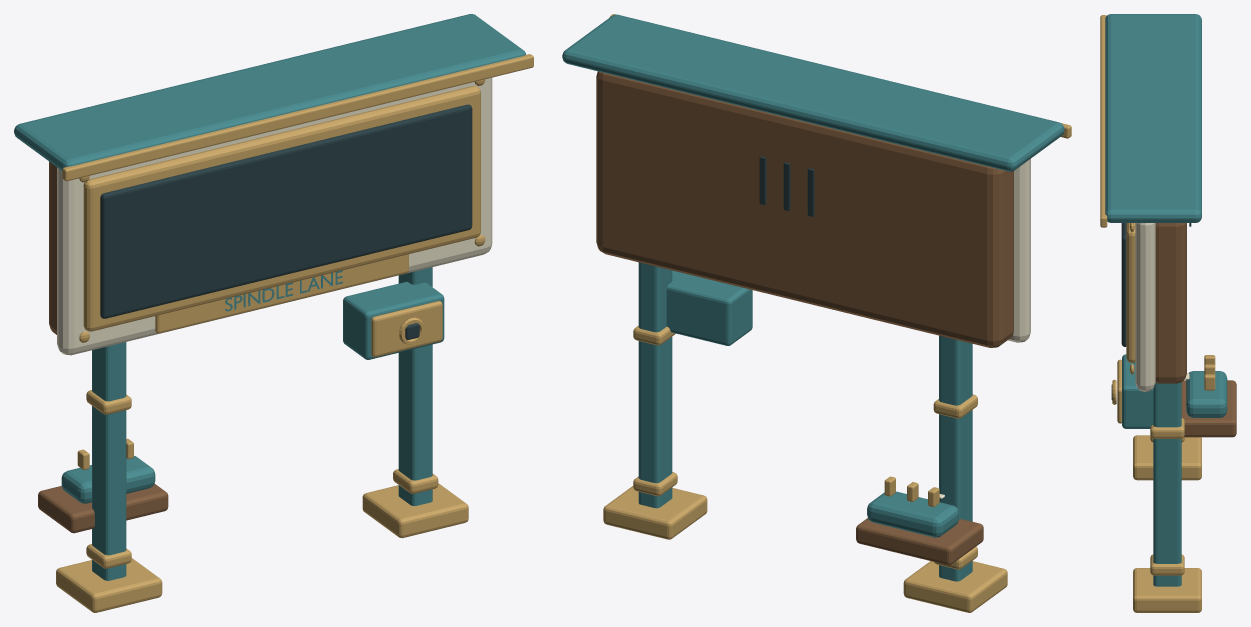
3 renders of one model, left to right at view 1: azimuth 30°, elevation 25°; view 2: azimuth 150°, elevation 25°; view 3: azimuth 270°, elevation 25°, orthographic. The views are drawn at different scales.
Parts seen in each view (by area): view 1: Display glass, Weather hood, Inset brass bezel, Enamel surround, Cast enamel upright, Hood brass lip, Cast enamel upright.001, Stop nameplate, Service enclosure, Brass foot.001, Brass foot, Tool rest (+4 smaller); view 2: Walnut back, Weather hood, Cast enamel upright.001, Cast enamel upright, Service enclosure, Tool rest, Brass foot.001, Brass foot, Enamel surround, Rolled canvas; view 3: Weather hood, Cast enamel upright.001, Walnut back, Enamel surround, Brass foot.001, Brass foot, Rolled canvas, Tool rest, Service enclosure, Inset brass bezel, Hood brass lip, Display glass (+3 smaller).
Boxes of the visible parts, x1,y1,x2,y2 form: Display glass: [100, 104, 472, 318]; Weather hood: [14, 14, 526, 170]; Inset brass bezel: [83, 86, 480, 331]; Enamel surround: [57, 77, 492, 355]; Cast enamel upright: [92, 342, 126, 580]; Hood brass lip: [62, 54, 533, 181]; Cast enamel upright.001: [398, 267, 432, 505]; Stop nameplate: [155, 254, 408, 333]; Service enclosure: [343, 281, 444, 359]; Brass foot.001: [362, 483, 468, 538]; Brass foot: [56, 558, 162, 612]; Tool rest: [38, 483, 168, 533]; Walnut back: [596, 71, 1013, 347]; Weather hood: [562, 14, 1064, 171]; Cast enamel upright.001: [638, 262, 672, 508]; Cast enamel upright: [939, 335, 972, 581]; Service enclosure: [666, 270, 752, 345]; Tool rest: [856, 518, 983, 565]; Brass foot.001: [603, 486, 707, 539]; Brass foot: [903, 561, 1007, 612]; Enamel surround: [1008, 159, 1030, 342]; Rolled canvas: [867, 491, 958, 537]; Weather hood: [1105, 14, 1201, 222]; Cast enamel upright.001: [1153, 382, 1181, 586]; Walnut back: [1155, 223, 1186, 383]; Enamel surround: [1135, 223, 1155, 392]; Brass foot.001: [1133, 568, 1201, 612]; Brass foot: [1133, 435, 1201, 480]; Rolled canvas: [1186, 371, 1227, 417]; Tool rest: [1181, 380, 1236, 437]; Service enclosure: [1122, 354, 1153, 428]; Inset brass bezel: [1126, 223, 1135, 362]; Hood brass lip: [1100, 15, 1107, 227]; Display glass: [1121, 223, 1126, 346].
Bounding box in the file's own units: 3.06 × 2.96 × 0.8675.
